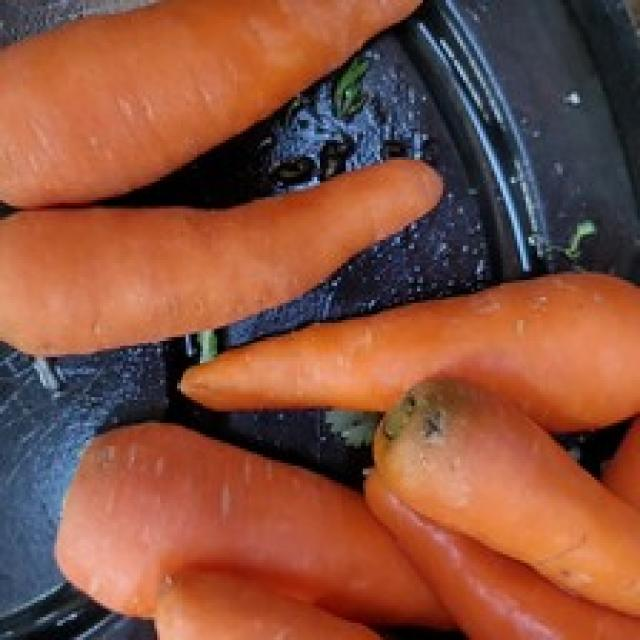Fresh_Carrot: (0, 0, 433, 206), (53, 425, 464, 630), (0, 162, 442, 352), (179, 266, 640, 426)
